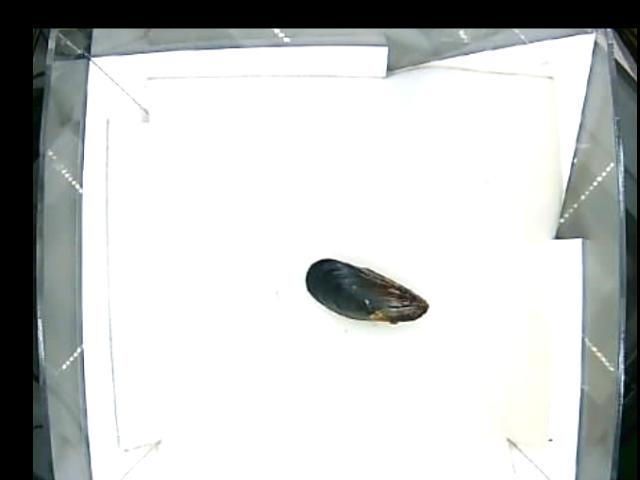Shell: (304, 258, 429, 325)
